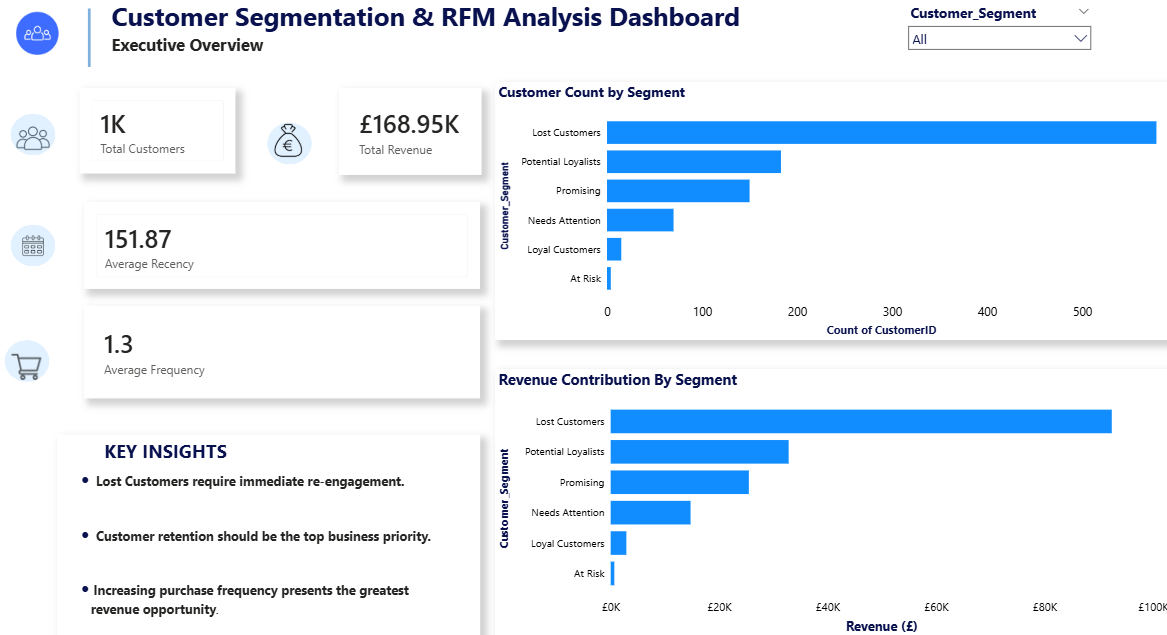

The dashboard page shown, as its layout file describes it:
{"tool":"powerbi","page":{"name":"Page 1","canvas":[1700,930],"ordinal":0},"visuals":[{"type":"cardVisual","fields":{"Data":["customer_segments.Total Customers"]},"box":[119.6,134.8,226.1,123.9],"z":0},{"type":"cardVisual","fields":{"Data":["customer_segments.Average Recency"]},"box":[126.1,300,573.9,126.1],"z":1000},{"type":"cardVisual","fields":{"Data":["customer_segments.Average Frequency"]},"box":[126.1,450,573.9,134.8],"z":2000},{"type":"cardVisual","fields":{"Data":["customer_segments.Total Revenue"]},"box":[495.7,134.8,206.5,126.1],"z":3000},{"type":"clusteredBarChart","title":" Customer Count by Segment","fields":{"Category":["customer_segments.Customer_Segment"],"Y":["Count(customer_segments.CustomerID)"]},"box":[722.6,125.6,978.3,373.9],"z":4000},{"type":"clusteredBarChart","title":"Revenue Contribution By Segment","fields":{"Category":["customer_segments.Customer_Segment"],"Y":["Sum(customer_segments.Monetary)"]},"box":[721,540.9,980.4,389.1],"z":5000},{"type":"textbox","box":[160.9,0,978.3,113],"z":6000},{"type":"shape","box":[89.1,19.6,89.1,84.8],"z":7000},{"type":"image","box":[19.6,19.6,78.3,71.7],"z":8000},{"type":"image","box":[28.3,178.3,47.8,58.7],"z":9000},{"type":"shape","box":[19.6,171.7,65.2,60.9],"z":10000},{"type":"shape","box":[19.6,332.6,65.2,60.9],"z":11000},{"type":"shape","box":[10.9,500,65.2,60.9],"z":12000},{"type":"shape","box":[391.3,184.8,65.2,60.9],"z":13000},{"type":"image","box":[28.3,347.8,47.8,30.4],"z":14000},{"type":"image","box":[19.6,517.4,45.7,43.5],"z":15000},{"type":"image","box":[391.3,184.8,60.9,52.2],"z":16000},{"type":"slicer","fields":{"Values":["customer_segments.Customer_Segment"]},"box":[1310.9,6.5,284.8,84.8],"z":17000},{"type":"textbox","title":"KEY INSIGHTS","box":[87,637,613,293.5],"z":18000}]}

Visuals, with their boxes in screenshot pixels (x1, y1, x2, y2), scaled from the page's 1700x930 canvas onto the 1167x635 screenshot:
cardVisual - customer_segments.Total Customers: <region>82, 92, 237, 177</region>
cardVisual - customer_segments.Average Recency: <region>87, 205, 481, 291</region>
cardVisual - customer_segments.Average Frequency: <region>87, 307, 481, 399</region>
cardVisual - customer_segments.Total Revenue: <region>340, 92, 482, 178</region>
" Customer Count by Segment" clusteredBarChart: <region>496, 86, 1166, 341</region>
"Revenue Contribution By Segment" clusteredBarChart: <region>495, 369, 1166, 634</region>
textbox: <region>110, 0, 782, 77</region>
shape: <region>61, 13, 122, 71</region>
image: <region>13, 13, 67, 62</region>
image: <region>19, 122, 52, 162</region>
shape: <region>13, 117, 58, 159</region>
shape: <region>13, 227, 58, 269</region>
shape: <region>7, 341, 52, 383</region>
shape: <region>269, 126, 313, 168</region>
image: <region>19, 237, 52, 258</region>
image: <region>13, 353, 45, 383</region>
image: <region>269, 126, 310, 162</region>
slicer - customer_segments.Customer_Segment: <region>900, 4, 1095, 62</region>
"KEY INSIGHTS" textbox: <region>60, 435, 481, 634</region>
